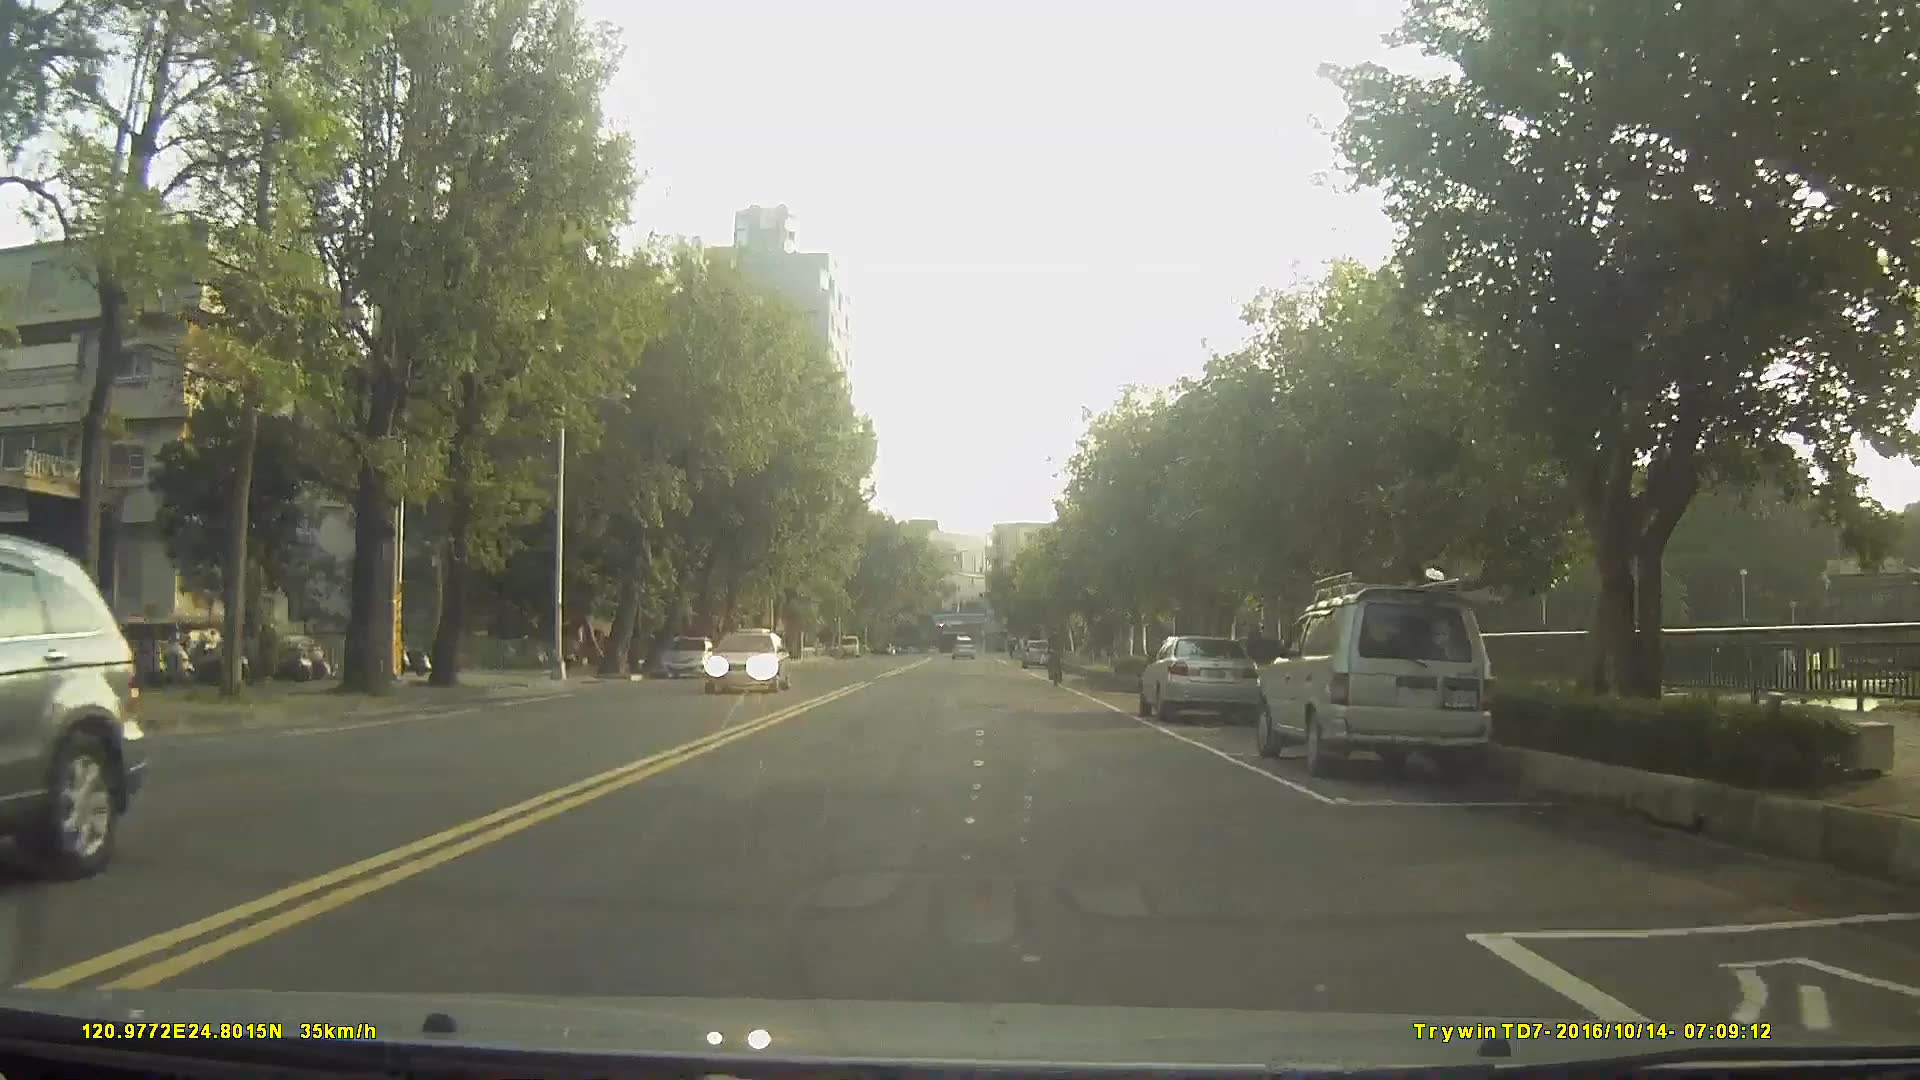rider: (1047, 624, 1068, 692)
vehicle: (0, 534, 142, 880), (1253, 580, 1494, 776), (1139, 632, 1266, 727), (699, 627, 793, 694), (657, 635, 716, 679), (726, 631, 772, 675), (1019, 636, 1051, 669), (947, 635, 975, 662)
